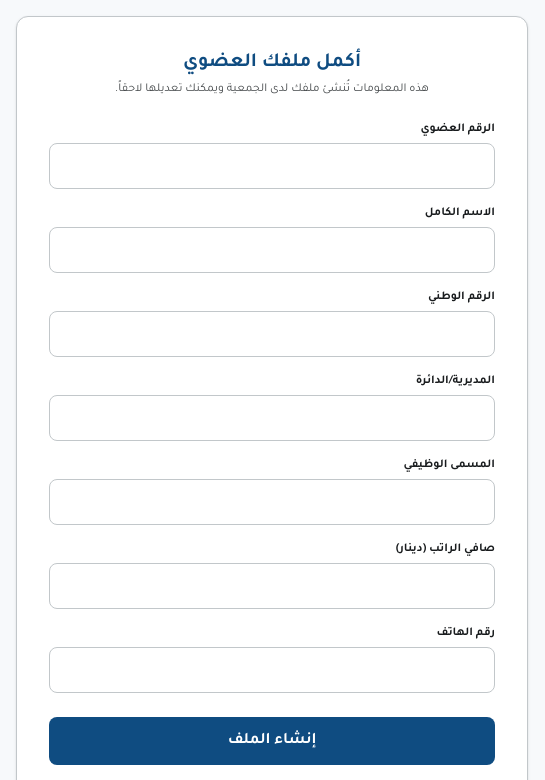
it: SignUpForm › validates required fields before submitting
Click the button "إنشاء الملف".
click(272, 741)  # box [49, 717, 495, 765]
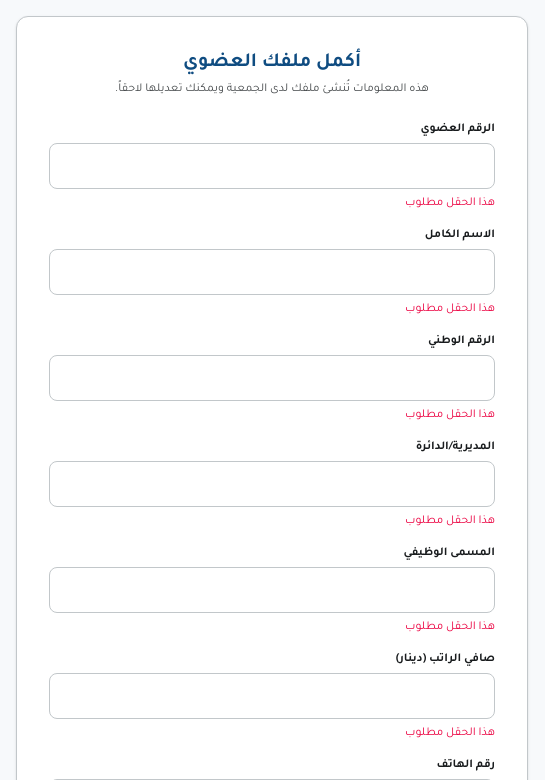
Expected: the text "هذا الحقل مطلوب" below "الرقم العضوي" is shown, [405, 197, 495, 209]
